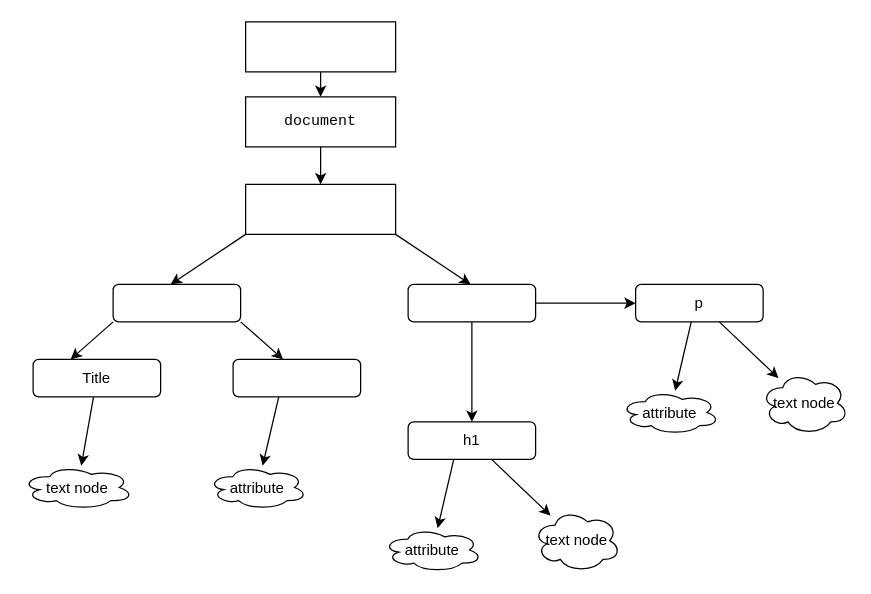
Image size: 871x594. Some labels were removed from this diagram. The shapes that lost their labels are listed below. From the top down, each one's centre as x and y in pixels, then its label:
the point at 320,46: Window
the point at 320,208: HTML
the point at 176,302: Head
the point at 471,302: Body
the point at 296,377: meta
